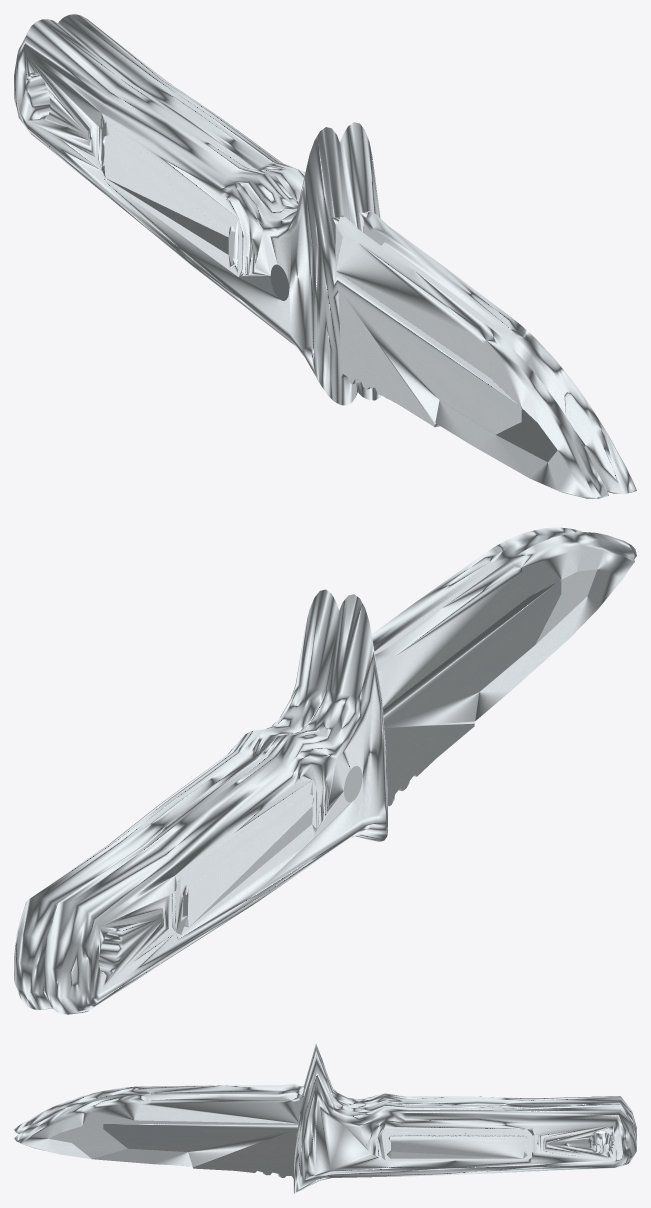
The model's file is model_align.obj.
The picture shows the model from 3 angles, top to bottom: view 1: azimuth 30°, elevation 25°; view 2: azimuth 150°, elevation 25°; view 3: azimuth 270°, elevation 25°; orthographic projection. The views are drawn at different scales.
Size of the model in its own units: 0.0189 by 0.0571 by 0.2266.
Materials: 4 (4 with a texture image).
